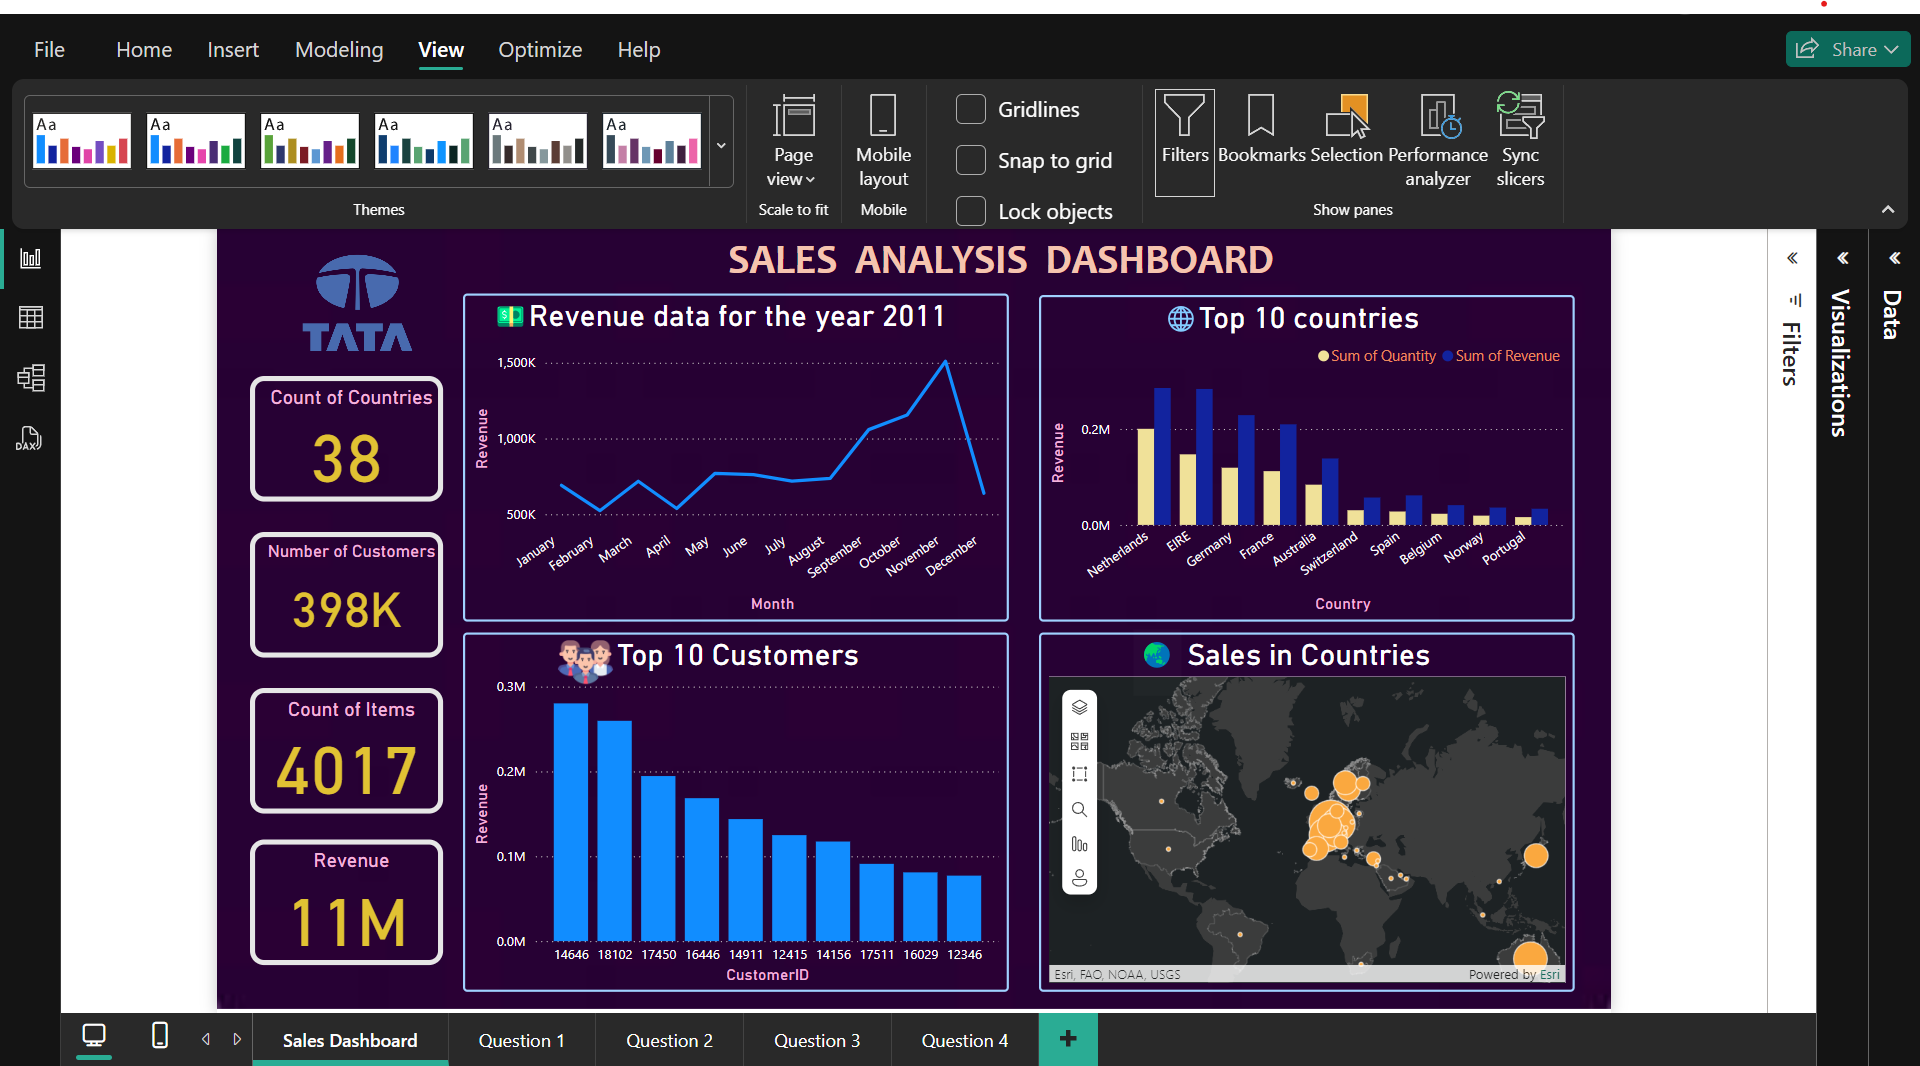

Layout of this report page (visuals, bound fields, positions):
{"tool":"powerbi","page":{"name":"Sales Dashboard","canvas":[1280,720],"ordinal":0},"visuals":[{"type":"card","title":"Count of Countries","fields":{"Values":["Count(Online Retail.Country)"]},"box":[30.3,134.8,177.2,115.1],"z":0},{"type":"card","title":"Count of Items","fields":{"Values":["Count(Online Retail.Description)"]},"box":[30.3,420.9,177.2,115.1],"z":1000},{"type":"card","title":"Revenue","fields":{"Values":["Sum(Online Retail.Revenue)"]},"box":[30.3,560.3,177.2,115.1],"z":2000},{"type":"card","title":"Number of Customers","fields":{"Values":["CountNonNull(Online Retail.CustomerID)"]},"box":[30.3,278.6,177.2,115.1],"z":3000},{"type":"lineChart","title":"Revenue data for the year 2011","fields":{"Category":["Online Retail.InvoiceDate.Variation.Date Hierarchy.Month"],"Y":["Sum(Online Retail.Revenue)"]},"box":[225.6,59.1,501.2,301.3],"z":4000},{"type":"clusteredColumnChart","title":"Top 10 countries ","fields":{"Category":["Online Retail.Country"],"Y":["Sum(Online Retail.Quantity)","Sum(Online Retail.Revenue)"]},"box":[755.6,60.6,492.1,299.8],"z":5000},{"type":"clusteredColumnChart","title":"Top 10 Customers","fields":{"Category":["Online Retail.CustomerID"],"Y":["Sum(Online Retail.Revenue)"]},"box":[225.6,371,501.2,330.1],"z":6000},{"type":"esriVisual","title":"Sales in Countries","fields":{"Size":["Sum(Online Retail.Quantity)"],"Location":["Online Retail.Country"]},"box":[755.6,371,492.1,330.1],"z":7000},{"type":"image","box":[302.8,366.4,71.2,62.1],"z":8000},{"type":"textbox","box":[841.9,368,43.9,60.6],"z":9000},{"type":"textbox","box":[248.3,54.5,45.4,48.5],"z":10000},{"type":"textbox","box":[863.1,59.1,46.9,43.9],"z":11000},{"type":"image","box":[0,0,257.4,134.8],"z":12000},{"type":"textbox","box":[192.9,0,1053.8,55.1],"z":13000}]}

Visuals, with their boxes on the page's 1280x720 design canvas (x1, y1, x2, y2). These are canvas units, not pixel positions in the 1920x1066 screenshot, which may show the page scaled, cropped or inside an application window:
"Count of Countries" card: (30,135,208,250)
"Count of Items" card: (30,421,208,536)
"Revenue" card: (30,560,208,675)
"Number of Customers" card: (30,279,208,394)
"Revenue data for the year 2011" lineChart: (226,59,727,360)
"Top 10 countries " clusteredColumnChart: (756,61,1248,360)
"Top 10 Customers" clusteredColumnChart: (226,371,727,701)
"Sales in Countries" esriVisual: (756,371,1248,701)
image: (303,366,374,428)
textbox: (842,368,886,429)
textbox: (248,54,294,103)
textbox: (863,59,910,103)
image: (0,0,257,135)
textbox: (193,0,1247,55)
